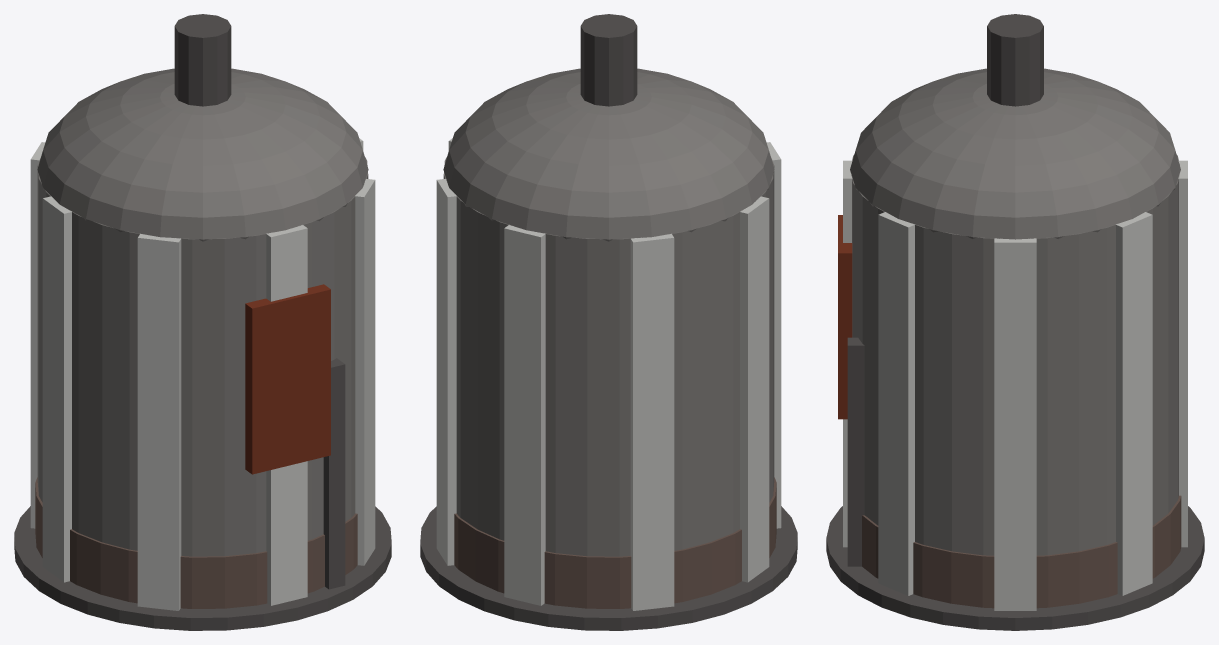
Rendered from storage_tank_1_kiln.glb.
3 renders of one model, left to right at view 1: azimuth 30°, elevation 25°; view 2: azimuth 150°, elevation 25°; view 3: azimuth 270°, elevation 25°, orthographic.
Visible parts, largest first — view 1: Cylinder.001, Sphere, Cube.005, Cube.008, Cube.004, Cylinder.002, Cylinder, Cube.006, Cube.007, Cylinder.003, Cube.009, Cube.003; view 2: Cylinder.001, Sphere, Cube.003, Cube.002, Cylinder.002, Cube.004, Cylinder, Cube.001, Cylinder.003, Cube.005; view 3: Cylinder.001, Sphere, Cube, Cube.001, Cube.007, Cylinder.002, Cylinder, Cylinder.003, Cube.009, Cube.002, Cube.008, Cube.006.
Part boxes in pixels (x1,y1,x2,y2): Cylinder.001: [37, 157, 368, 556]; Sphere: [37, 68, 368, 241]; Cube.005: [137, 233, 181, 610]; Cube.008: [245, 284, 330, 474]; Cube.004: [42, 196, 71, 582]; Cylinder.002: [35, 477, 357, 608]; Cylinder: [14, 506, 391, 630]; Cube.006: [266, 225, 307, 605]; Cube.007: [355, 179, 375, 565]; Cylinder.003: [174, 14, 231, 106]; Cube.009: [323, 358, 345, 589]; Cube.003: [30, 142, 45, 528]; Cylinder.001: [443, 157, 774, 556]; Sphere: [443, 68, 774, 241]; Cube.003: [630, 233, 674, 610]; Cube.002: [504, 224, 545, 605]; Cylinder.002: [454, 477, 776, 608]; Cube.004: [740, 196, 769, 582]; Cylinder: [420, 506, 797, 630]; Cube.001: [436, 178, 456, 565]; Cylinder.003: [580, 14, 637, 106]; Cube.005: [766, 142, 781, 528]; Cylinder.001: [850, 155, 1179, 555]; Sphere: [850, 68, 1180, 239]; Cube: [994, 238, 1036, 610]; Cube.001: [1116, 212, 1152, 595]; Cube.007: [878, 212, 914, 595]; Cylinder.002: [862, 495, 1181, 608]; Cylinder: [826, 506, 1204, 630]; Cylinder.003: [987, 14, 1043, 106]; Cube.009: [847, 337, 864, 566]; Cube.002: [1178, 160, 1187, 547]; Cube.008: [838, 215, 852, 419]; Cube.006: [843, 160, 852, 547].
Bounding box in the file's own units: 8 × 12.25 × 8.
